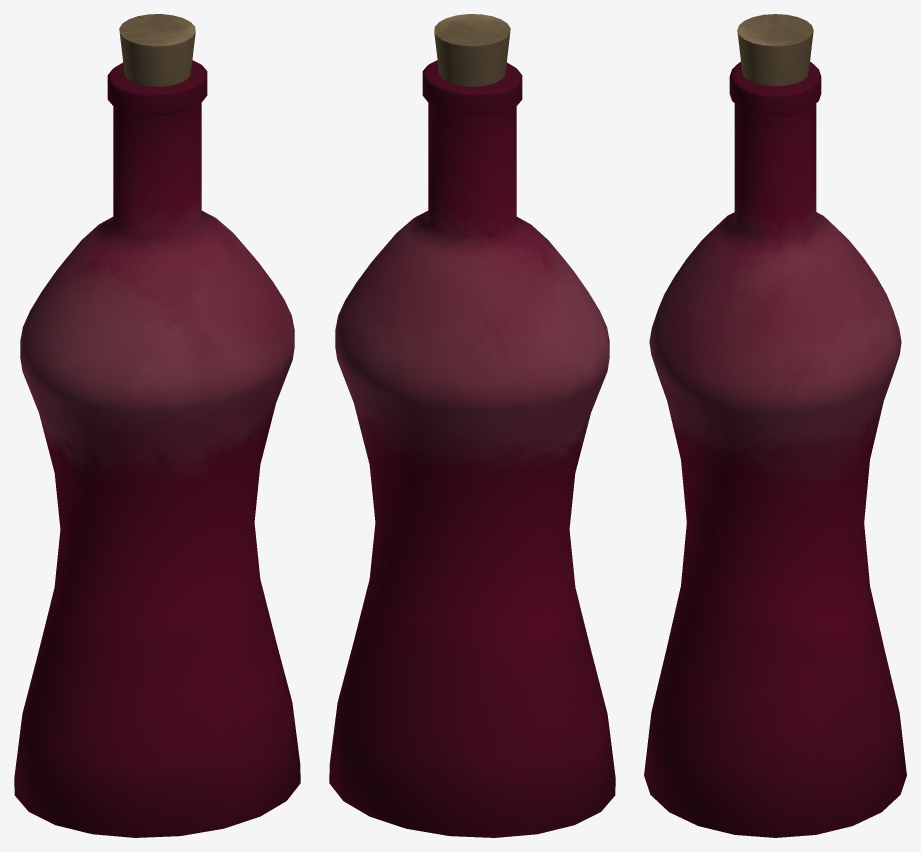
The model's file is bottle.fbx.
3 renders of one model, left to right at view 1: azimuth 30°, elevation 25°; view 2: azimuth 150°, elevation 25°; view 3: azimuth 270°, elevation 25°, orthographic.
Parts seen in each view (by area): view 1: bottle, cork; view 2: bottle, cork; view 3: bottle, cork.
Part boxes in pixels (<box>): bottle: <box>14,60,300,837</box>; cork: <box>119,14,195,86</box>; bottle: <box>329,60,615,837</box>; cork: <box>434,14,510,86</box>; bottle: <box>644,61,906,837</box>; cork: <box>737,14,813,86</box>.
Size of the model in its own units: 3.86 by 10.73 by 3.43.
2 materials, 2 textured.
